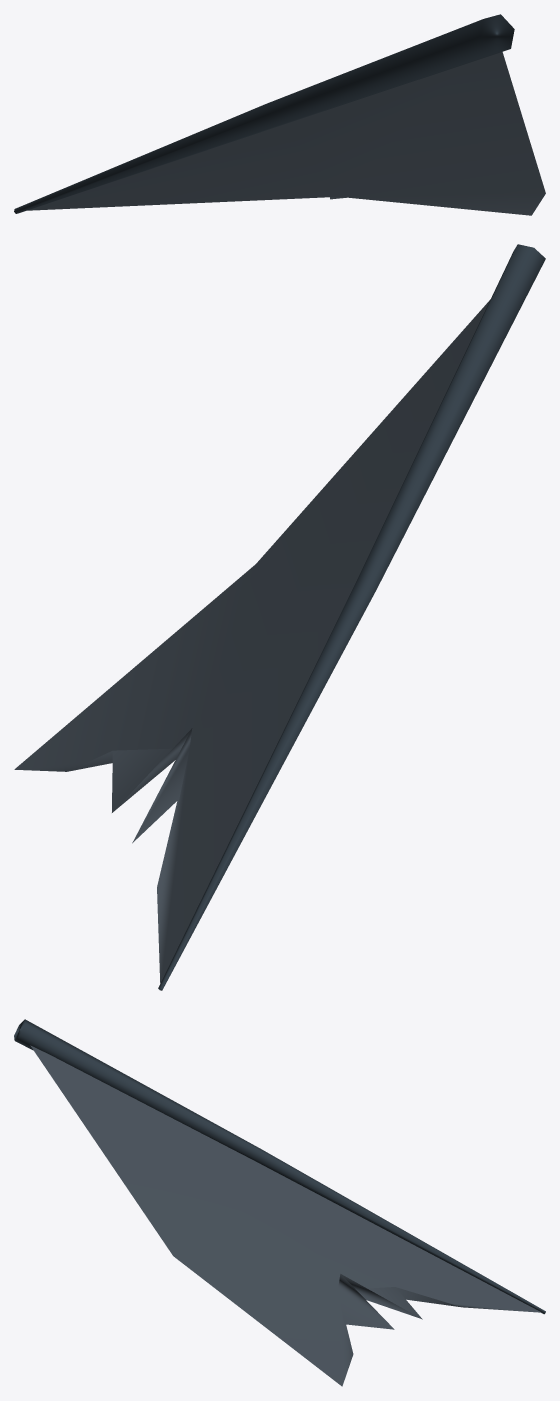
Rendered from L_Wing_Membrane_4.obj.
The picture shows the model from 3 angles, top to bottom: view 1: azimuth 30°, elevation 25°; view 2: azimuth 150°, elevation 25°; view 3: azimuth 270°, elevation 25°; orthographic projection. The views are drawn at different scales.
Visible parts, largest first — view 1: L_Wing_Membrane_4; view 2: L_Wing_Membrane_4; view 3: L_Wing_Membrane_4.
Part boxes in pixels (bbox=[...]): L_Wing_Membrane_4: bbox=[14, 14, 545, 215]; L_Wing_Membrane_4: bbox=[14, 244, 545, 990]; L_Wing_Membrane_4: bbox=[14, 1019, 545, 1386].
Bounding box in the file's own units: 2.09 × 2.99 × 4.8.
